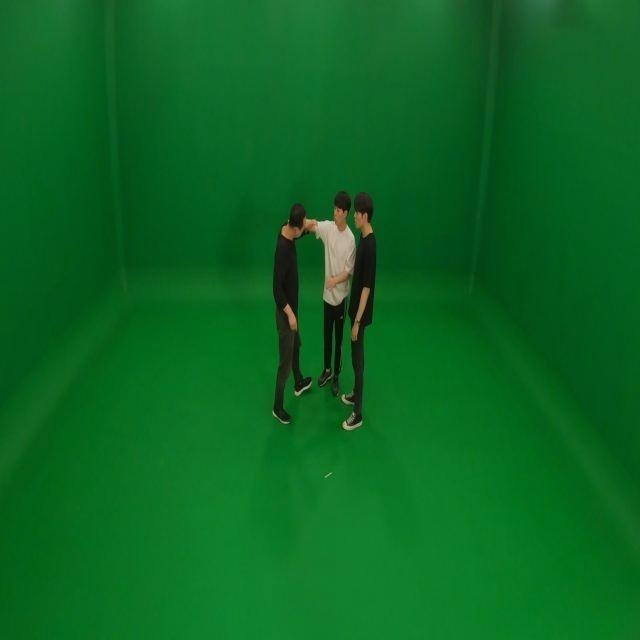fight: (268, 190, 356, 432)
non-fight: (339, 198, 380, 426)
